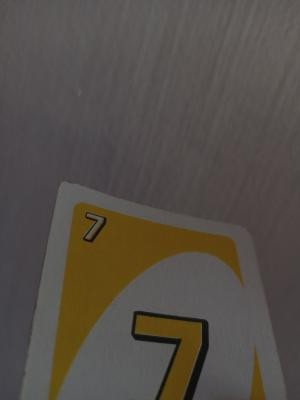num_7: (67, 203, 123, 296)
yellow: (130, 308, 263, 400)
